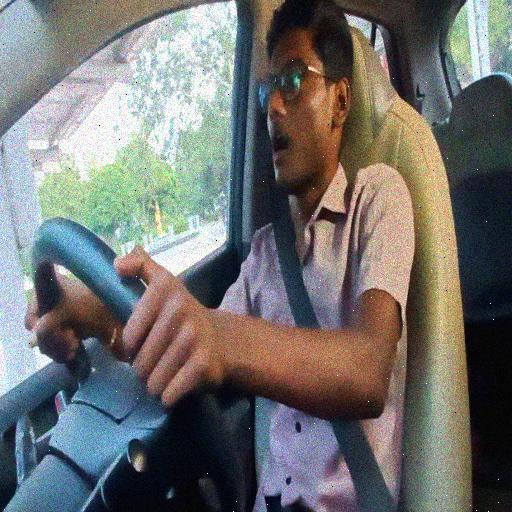yawns: (262, 0, 347, 191)
